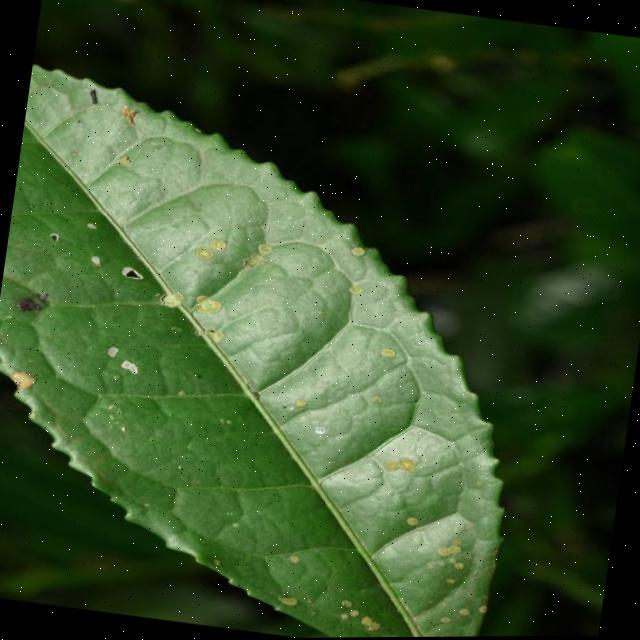Tea algae leaf spot: (1, 154, 500, 560)
